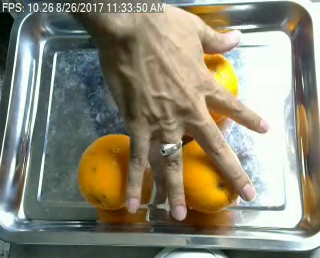Orange: (79, 133, 151, 209)
